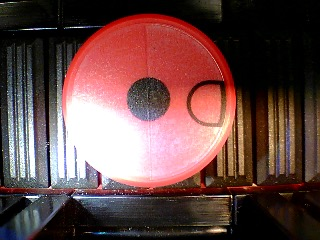BOHOMIPO1: (62, 14, 236, 187)
